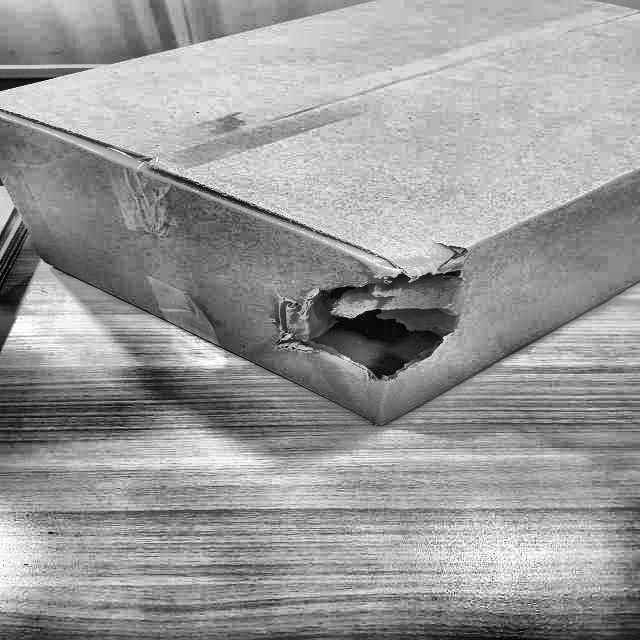box: (2, 1, 639, 435)
hole: (267, 227, 473, 385)
